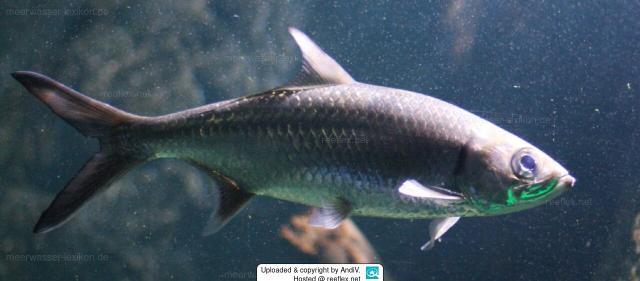Mulut: (540, 151, 588, 209)
Sirip Anal: (182, 148, 258, 240)
Sirip Dada: (392, 171, 470, 211), (418, 212, 468, 254)
Sirip Perut: (8, 63, 134, 245), (300, 191, 358, 233)
Sirip Punggung: (272, 12, 360, 92)
